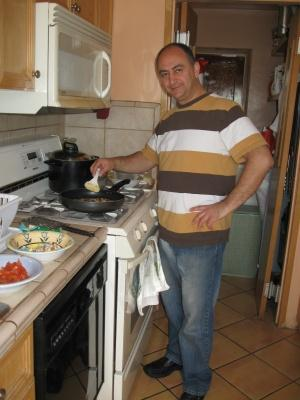person: (90, 44, 275, 400)
